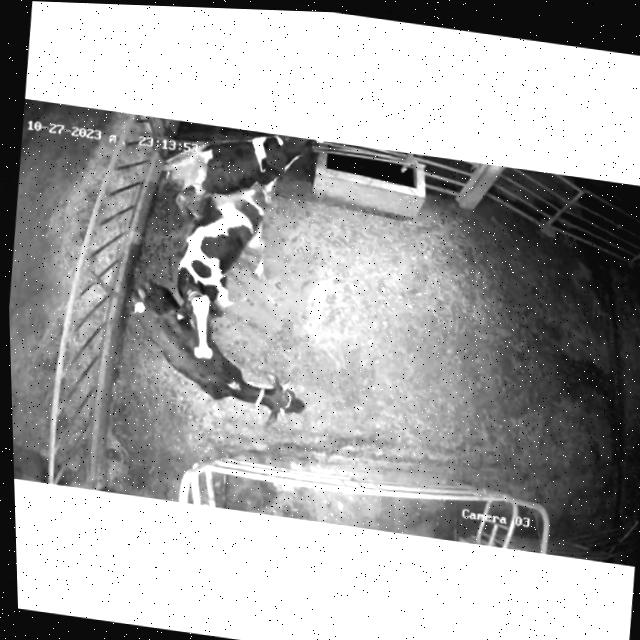propping: (158, 276, 242, 374)
